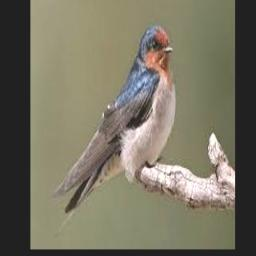Swallow: (50, 25, 177, 237)
